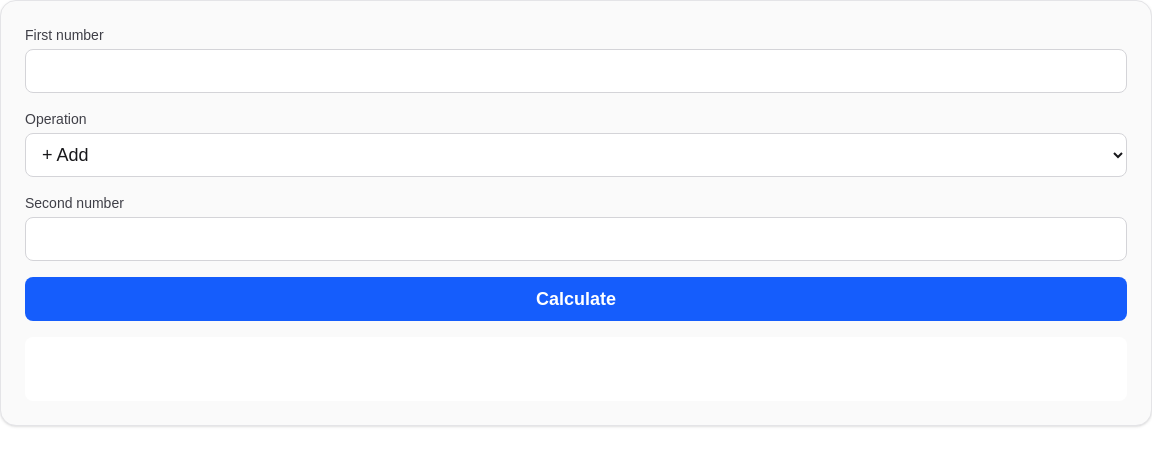
Test: Calculator › submits with the Enter key
The width and height of the screenshot is (1152, 456).
Select "÷ Divide" in the dropdown labelled "Operation". click: (576, 155)
box: [25,133,1127,177]
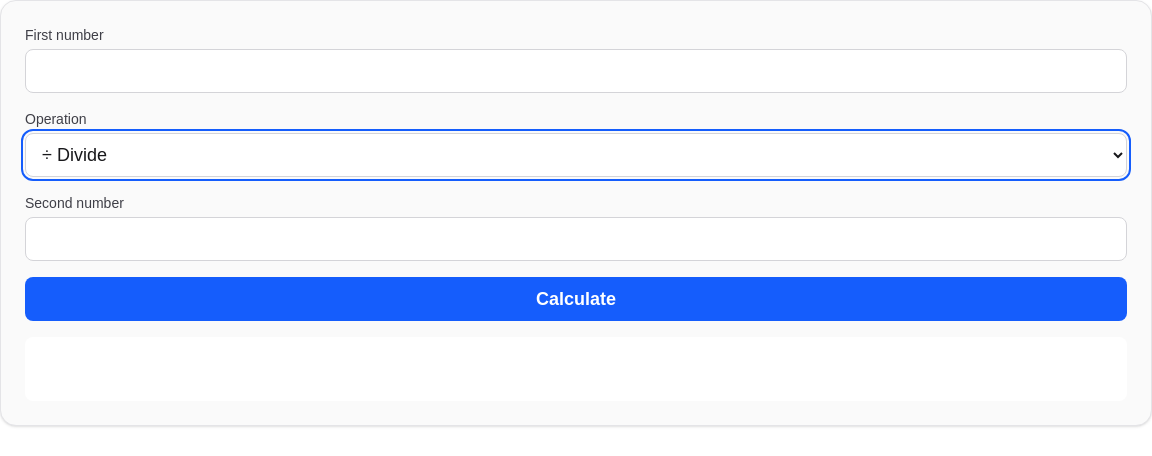
Type "10" into the field labelled "First number". click: (576, 71)
box: [25,49,1127,93]
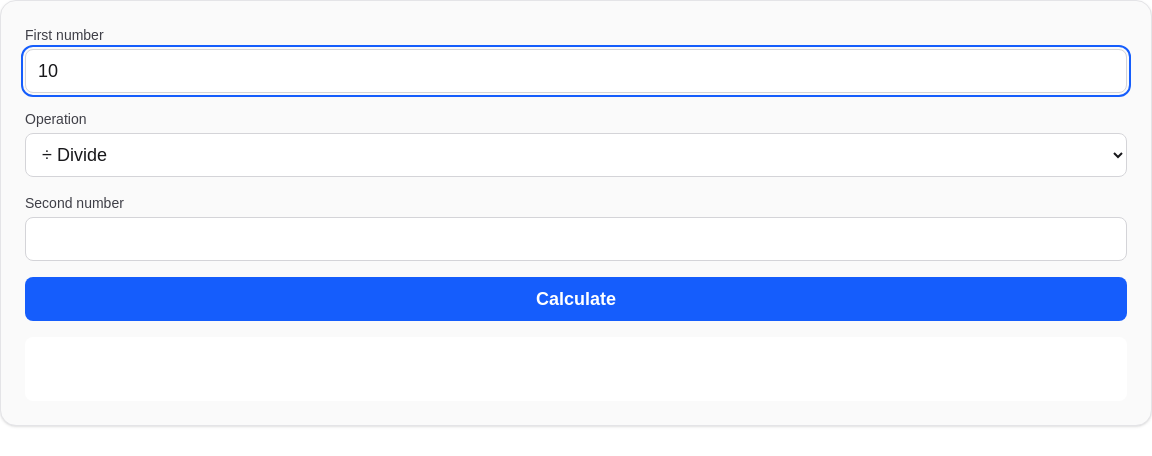
Type "4" into the field labelled "Second number". click: (576, 239)
box: [25,217,1127,261]
Then press Enter
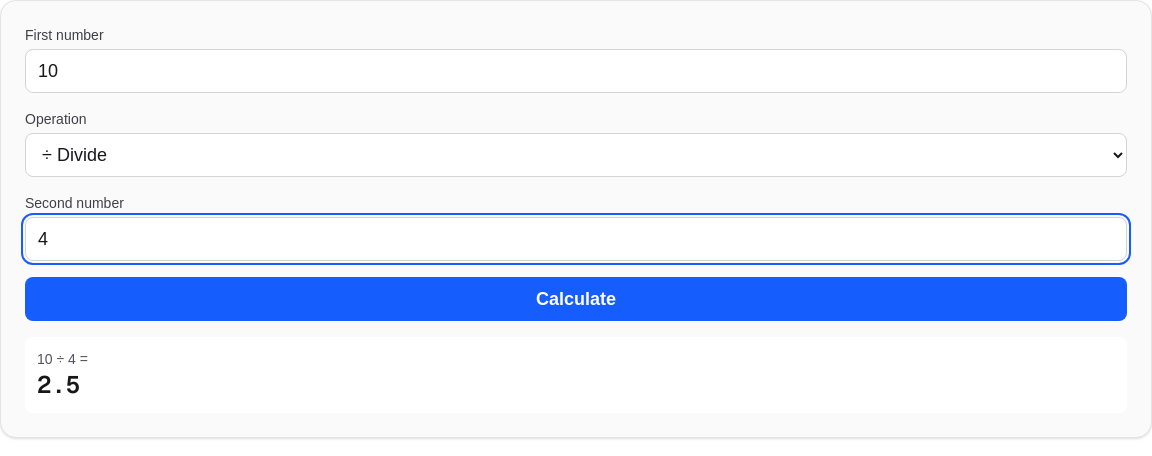
Check: the message shows "2.5", box [37,369,80,400]
